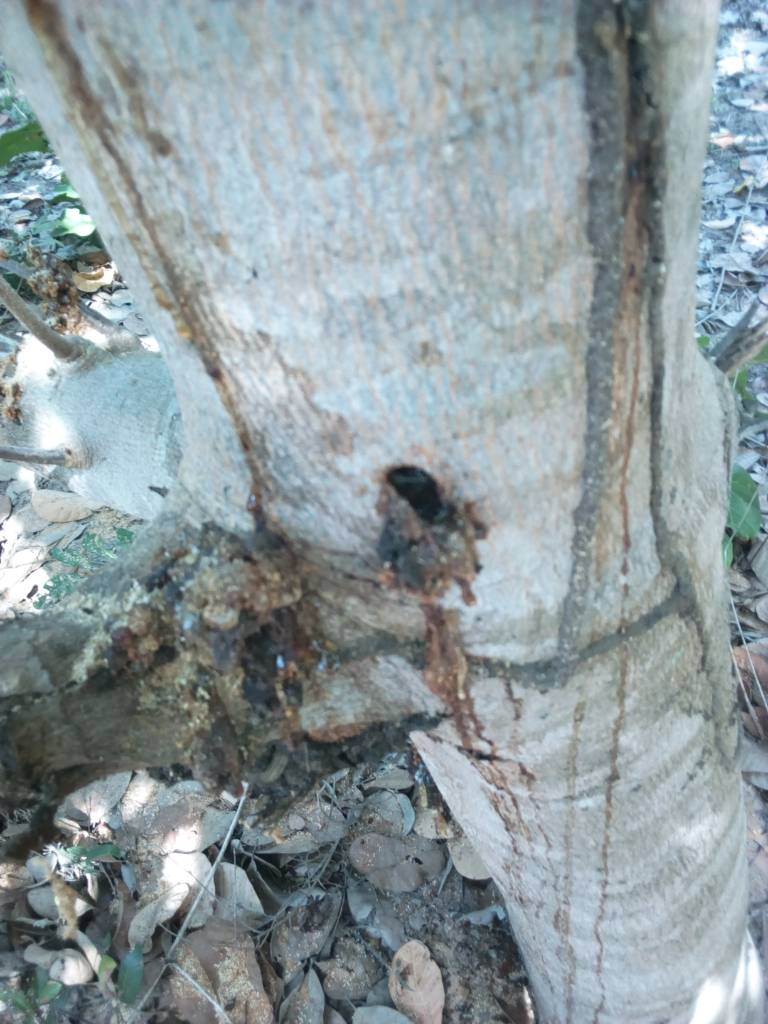Apate terebrans: (352, 449, 515, 578)
